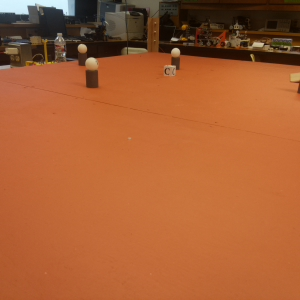blockC: (165, 66, 175, 77)
corner: (147, 18, 159, 53)
obstacle: (84, 59, 99, 89), (169, 46, 181, 69), (78, 43, 86, 64)
